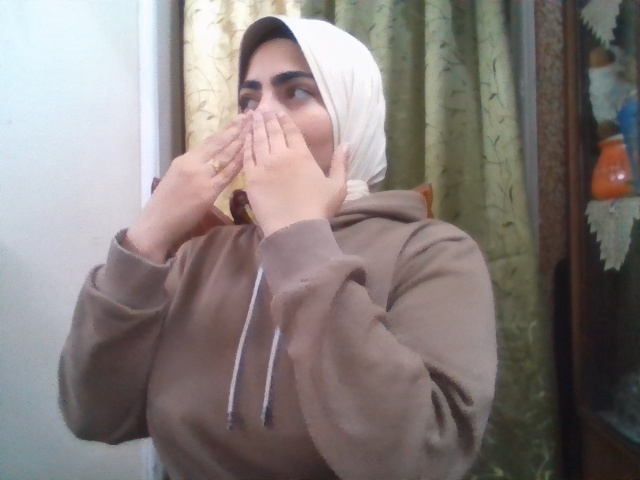thanks: (127, 108, 351, 216)
